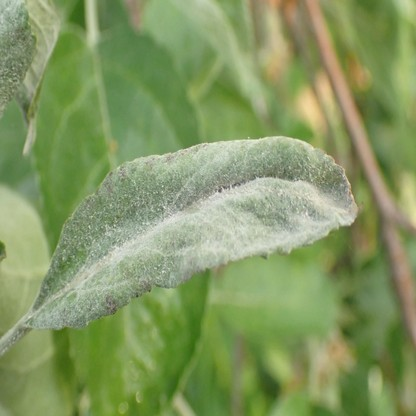powdery_mildew: (21, 136, 358, 331), (0, 0, 36, 118)
